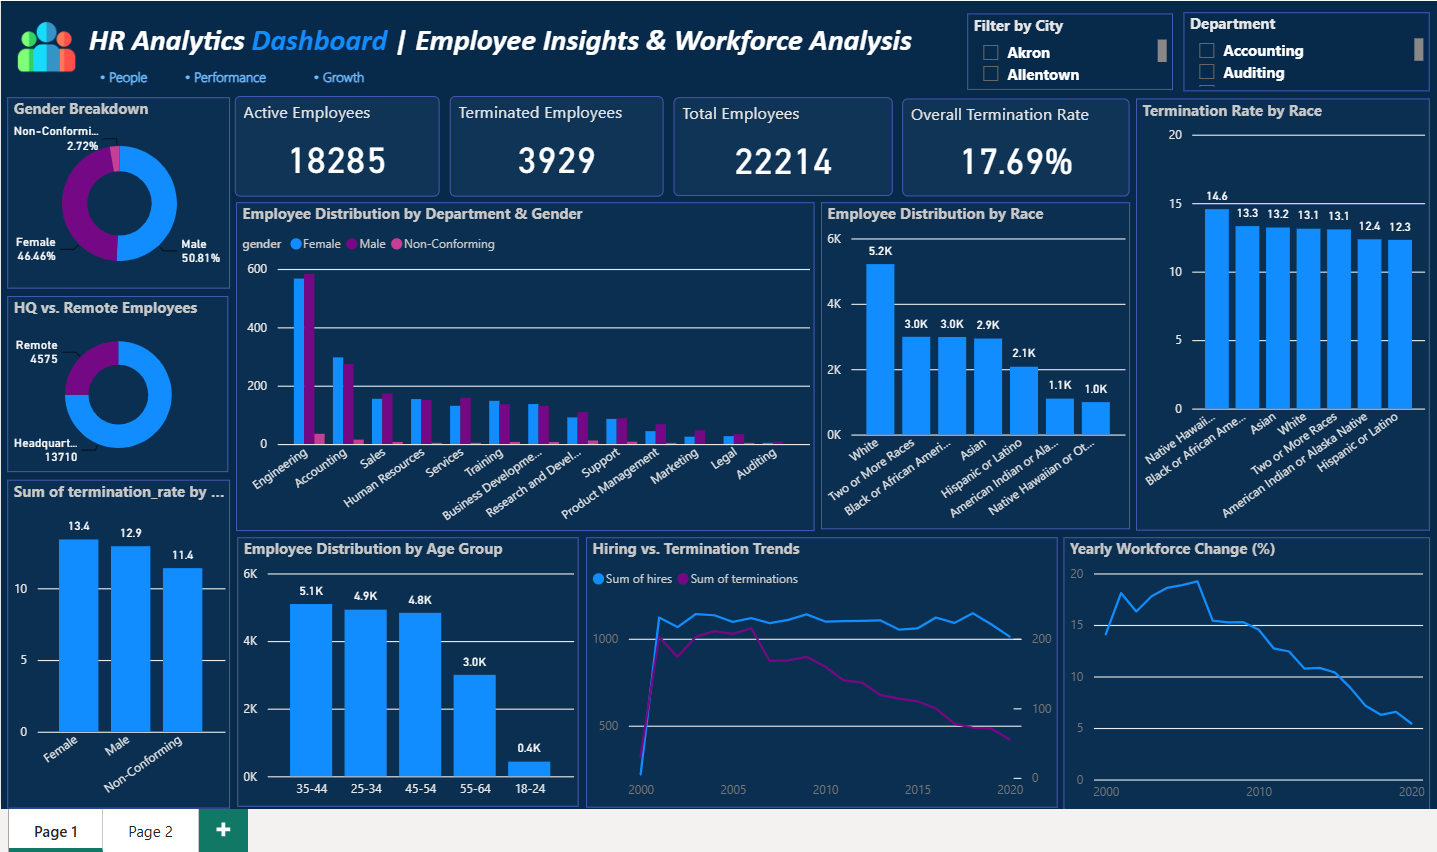

The dashboard page shown, as its layout file describes it:
{"tool":"powerbi","page":{"name":"Page 1","canvas":[1280,720],"ordinal":0},"visuals":[{"type":"pieChart","title":"HQ vs. Remote Employees","fields":{"Category":["hq_vs_remote.location"],"Y":["Sum(hq_vs_remote.count)"]},"box":[5.8,262.8,196.6,156.8],"z":0},{"type":"columnChart","title":"Employee Distribution by Age Group","fields":{"Category":["age_distribution.age_group"],"Y":["Sum(age_distribution.count)"]},"box":[210.4,477.8,303.9,240.2],"z":1000},{"type":"clusteredColumnChart","title":"Employee Distribution by Department & Gender","fields":{"Category":["gender_by_department_jobtitle.department"],"Series":["gender_by_department_jobtitle.gender"],"Y":["Sum(gender_by_department_jobtitle.count)"]},"box":[209.6,179.1,515.2,293.2],"z":2000},{"type":"columnChart","title":"Employee Distribution by Race","fields":{"Category":["race_breakdown.race"],"Y":["Sum(race_breakdown.count)"]},"box":[730.8,179.1,275.1,291.2],"z":3000},{"type":"textbox","box":[73.6,1.2,773.3,78.4],"z":4000},{"type":"card","title":"Active Employees","fields":{"Values":["hr_raw_to_cleaned_data.Active_Employees"]},"box":[208.7,84.5,182.2,89.3],"z":5000},{"type":"card","title":"Terminated Employees","fields":{"Values":["hr_raw_to_cleaned_data.Terminated_Employees"]},"box":[399.3,84.5,190.6,89.3],"z":6000},{"type":"card","title":"Total Employees","fields":{"Values":["hr_raw_to_cleaned_data.Total_Employees"]},"box":[598.4,85.7,195.4,88.1],"z":7000},{"type":"card","title":"Overall Termination Rate","fields":{"Values":["hr_raw_to_cleaned_data.Overall_Termination_Rate"]},"box":[802.3,86.9,202.7,86.9],"z":8000},{"type":"image","box":[8.2,10.1,65.1,61.5],"z":9000},{"type":"textbox","box":[73.6,54.3,76,29],"z":10000},{"type":"textbox","box":[149.6,54.3,114.6,26.5],"z":11000},{"type":"textbox","box":[264.2,54.3,97.7,26.5],"z":12000},{"type":"slicer","title":"Filter by City","fields":{"Values":["hr_raw_to_cleaned_data.location_city"]},"box":[860.2,10.9,183.4,67.8],"z":13000},{"type":"slicer","title":"Department","fields":{"Values":["hr_raw_to_cleaned_data.department"]},"box":[1053.2,9.7,219.6,70.7],"z":14000},{"type":"donutChart","title":"Gender Breakdown","fields":{"Y":["Sum(gender_count.count)"],"Category":["gender_count.gender"]},"box":[5.6,85.7,198.6,170.3],"z":15000},{"type":"lineChart","title":"Hiring vs. Termination Trends","fields":{"Category":["yearly_employee_movement.year"],"Y":["Sum(yearly_employee_movement.hires)"],"Y2":["Sum(yearly_employee_movement.terminations)"]},"box":[521,478,419.7,241.1],"z":16000},{"type":"lineChart","title":"Yearly Workforce Change (%)","fields":{"Y":["Sum(yearly_employee_movement.change_percent)"],"Category":["yearly_employee_movement.year"]},"box":[946.2,477.1,326.2,243.1],"z":17000},{"type":"columnChart","fields":{"Category":["gender_termination.gender"],"Y":["Sum(gender_termination.termination_rate)"]},"box":[5.6,426.3,198.6,292.8],"z":18000},{"type":"columnChart","title":"Termination Rate by Race","fields":{"Category":["race_termination.race"],"Y":["Sum(race_termination.termination_rate)"]},"box":[1010.8,86.8,261.6,384.5],"z":19001}]}

Visuals, with their boxes on the page's 1280x720 design canvas (x1, y1, x2, y2). These are canvas units, not pixel positions in the 1437x852 screenshot, which may show the page scaled, cropped or inside an application window:
"HQ vs. Remote Employees" pieChart: pyautogui.locateOnScreen(6, 263, 202, 420)
"Employee Distribution by Age Group" columnChart: pyautogui.locateOnScreen(210, 478, 514, 718)
"Employee Distribution by Department & Gender" clusteredColumnChart: pyautogui.locateOnScreen(210, 179, 725, 472)
"Employee Distribution by Race" columnChart: pyautogui.locateOnScreen(731, 179, 1006, 470)
textbox: pyautogui.locateOnScreen(74, 1, 847, 80)
"Active Employees" card: pyautogui.locateOnScreen(209, 84, 391, 174)
"Terminated Employees" card: pyautogui.locateOnScreen(399, 84, 590, 174)
"Total Employees" card: pyautogui.locateOnScreen(598, 86, 794, 174)
"Overall Termination Rate" card: pyautogui.locateOnScreen(802, 87, 1005, 174)
image: pyautogui.locateOnScreen(8, 10, 73, 72)
textbox: pyautogui.locateOnScreen(74, 54, 150, 83)
textbox: pyautogui.locateOnScreen(150, 54, 264, 81)
textbox: pyautogui.locateOnScreen(264, 54, 362, 81)
"Filter by City" slicer: pyautogui.locateOnScreen(860, 11, 1044, 79)
"Department" slicer: pyautogui.locateOnScreen(1053, 10, 1273, 80)
"Gender Breakdown" donutChart: pyautogui.locateOnScreen(6, 86, 204, 256)
"Hiring vs. Termination Trends" lineChart: pyautogui.locateOnScreen(521, 478, 941, 719)
"Yearly Workforce Change (%)" lineChart: pyautogui.locateOnScreen(946, 477, 1272, 720)
columnChart - gender_termination.gender x Sum(gender_termination.termination_rate): pyautogui.locateOnScreen(6, 426, 204, 719)
"Termination Rate by Race" columnChart: pyautogui.locateOnScreen(1011, 87, 1272, 471)
